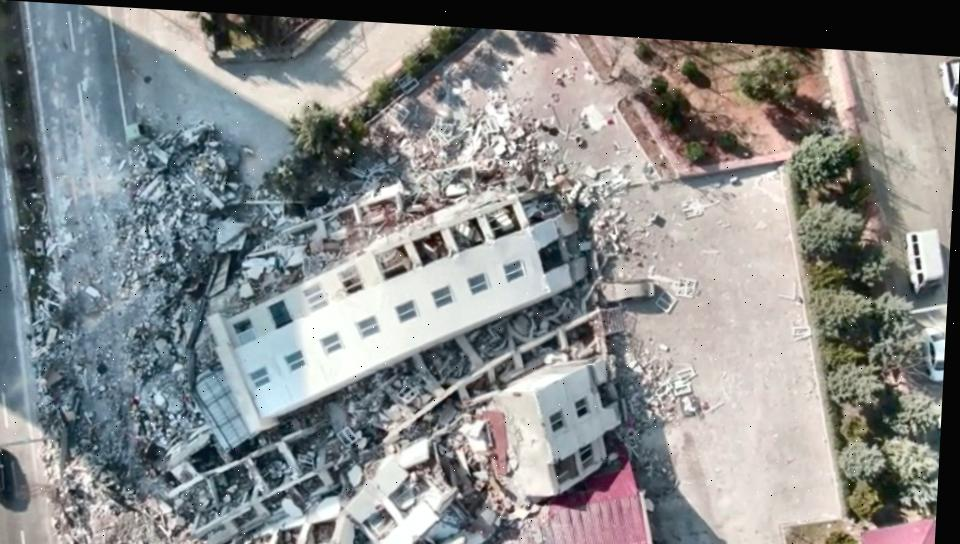kapali: (37, 71, 190, 544)
